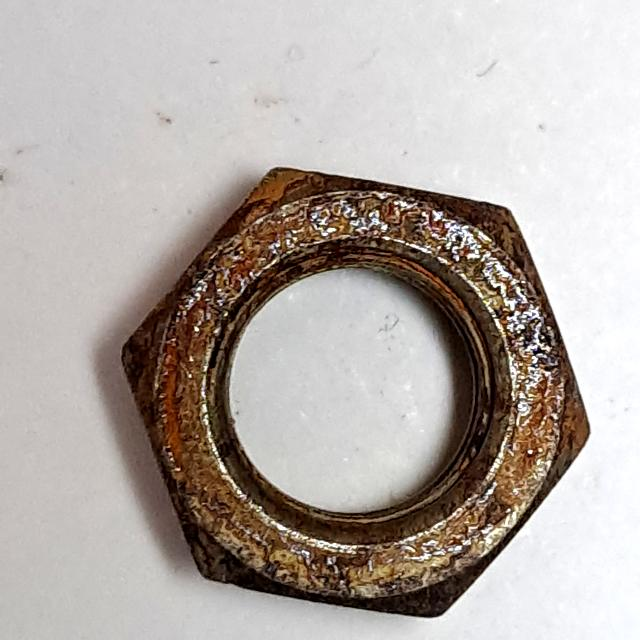Rust: (108, 149, 603, 629)
